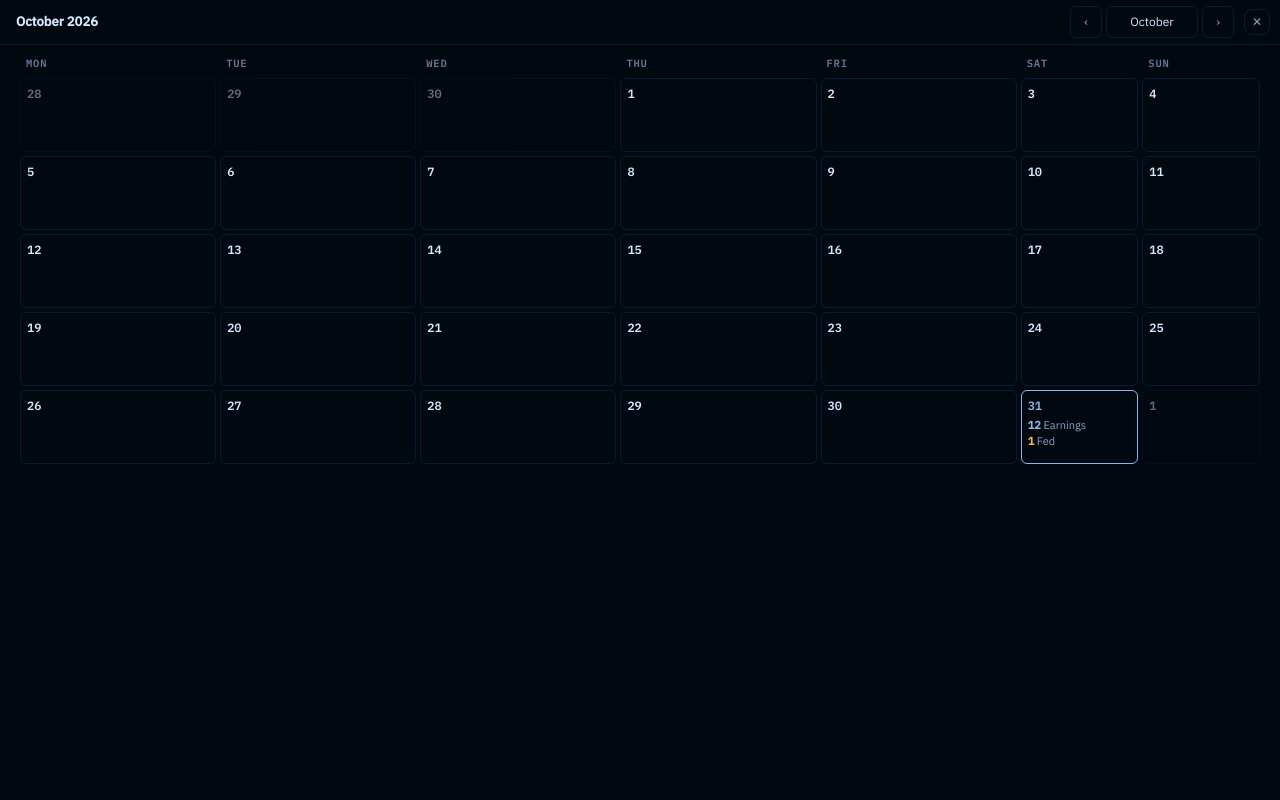
it: CalendarPanel › says so when a day is empty
Click the button "31 12 Earnings 1 Fed" at x=1079, y=427, box [1021,390,1138,464]
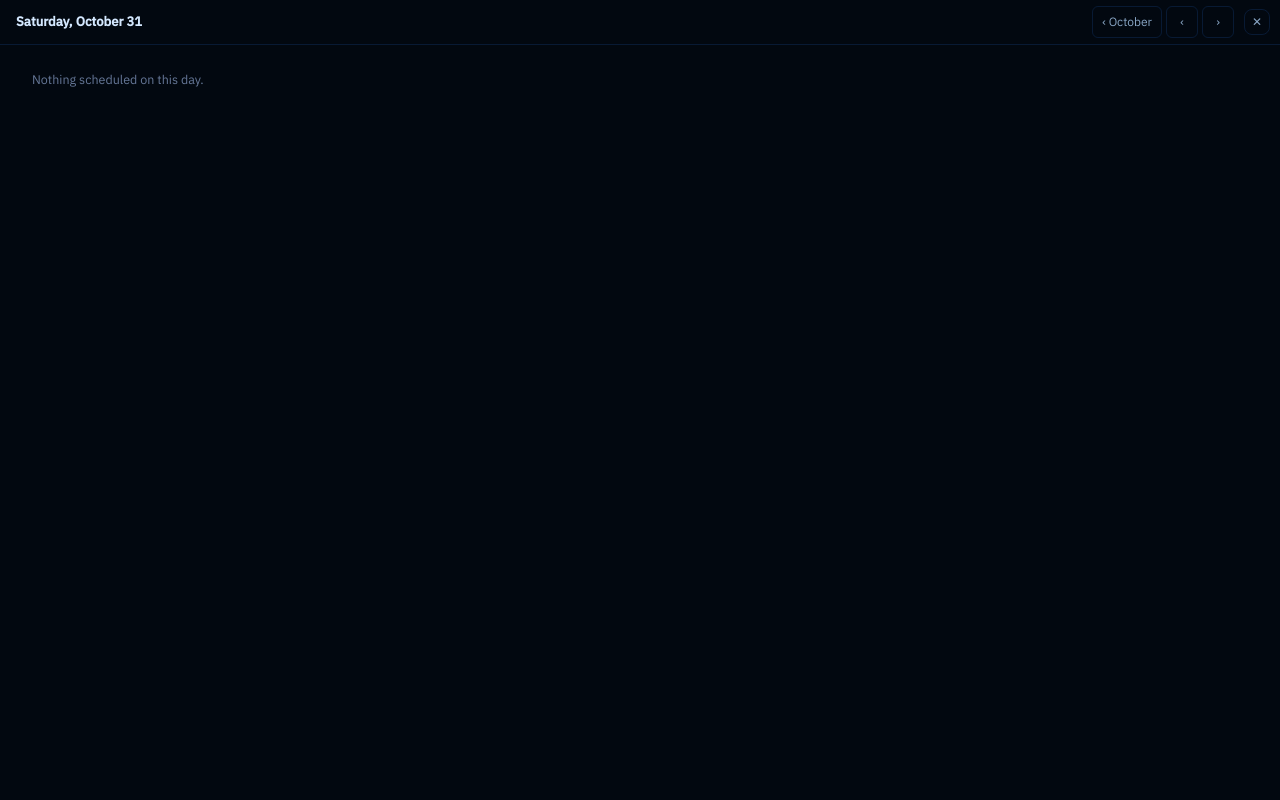
Expected: the text "Nothing scheduled on this day." is shown, [32,71,204,87]
